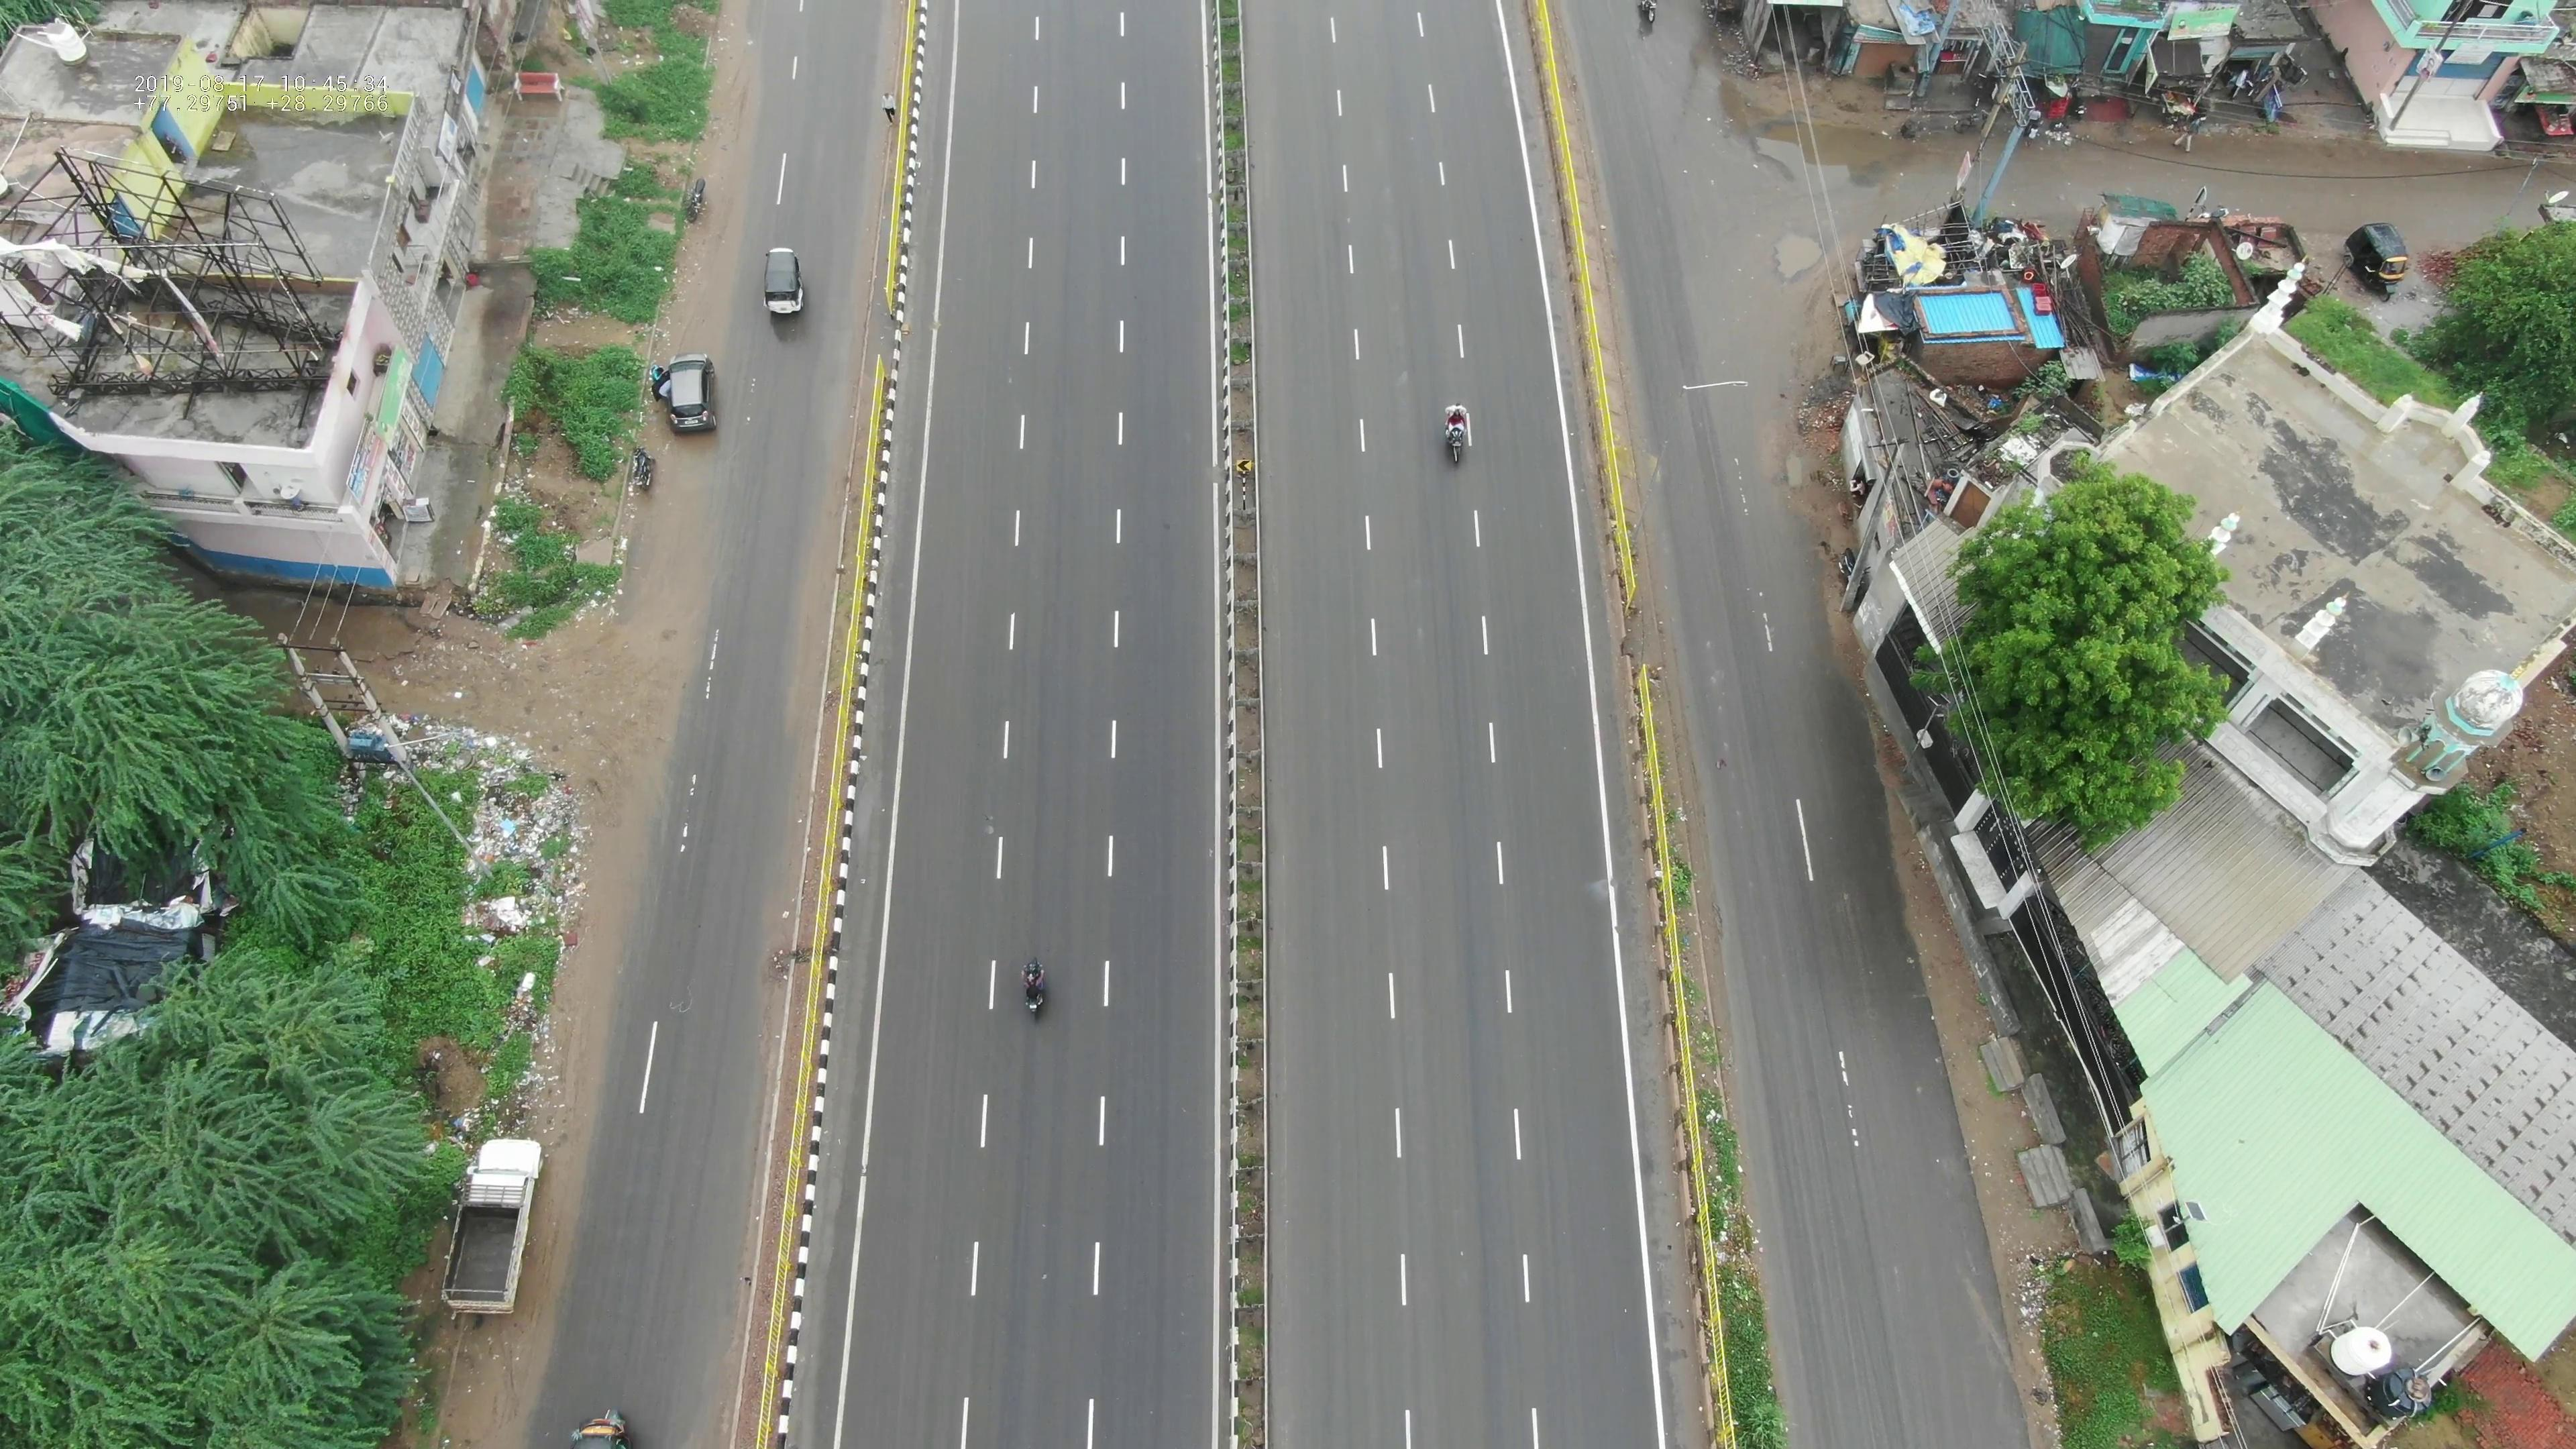Muddy_road: (660, 216, 741, 350), (586, 614, 681, 701)
Road_side_garbage: (439, 732, 589, 931)
Waterlogging: (1746, 104, 1943, 200)
